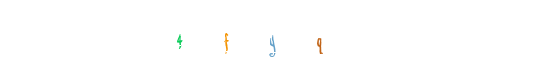4: (139, 0, 219, 80)
F: (215, 0, 295, 80)
Q: (231, 0, 311, 80)
Y: (230, 0, 310, 80)
